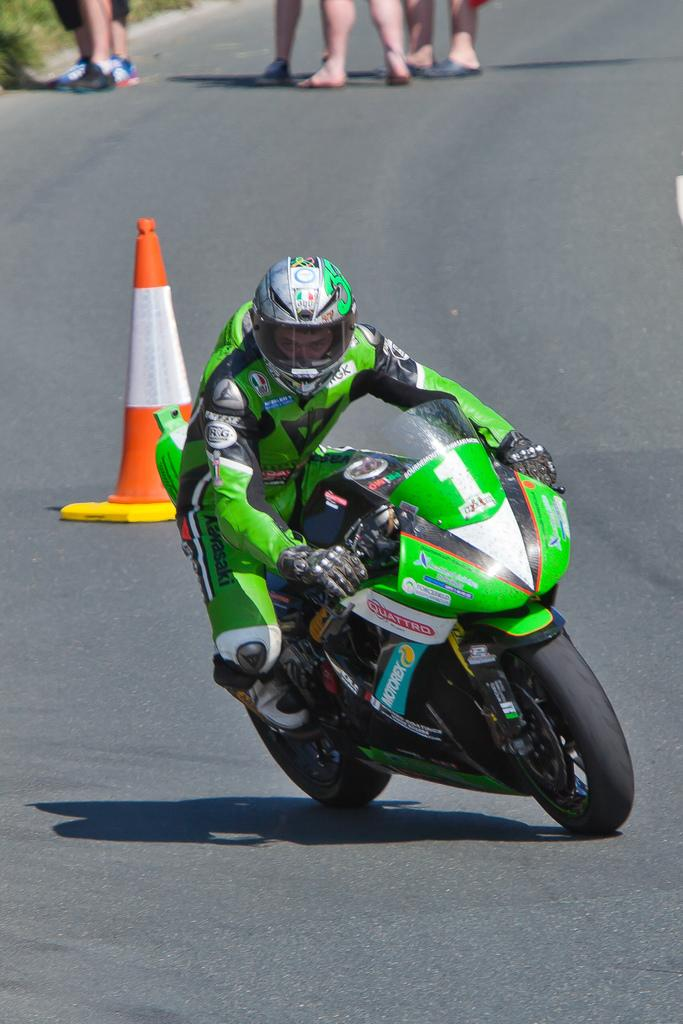helmet: (249, 256, 358, 399)
